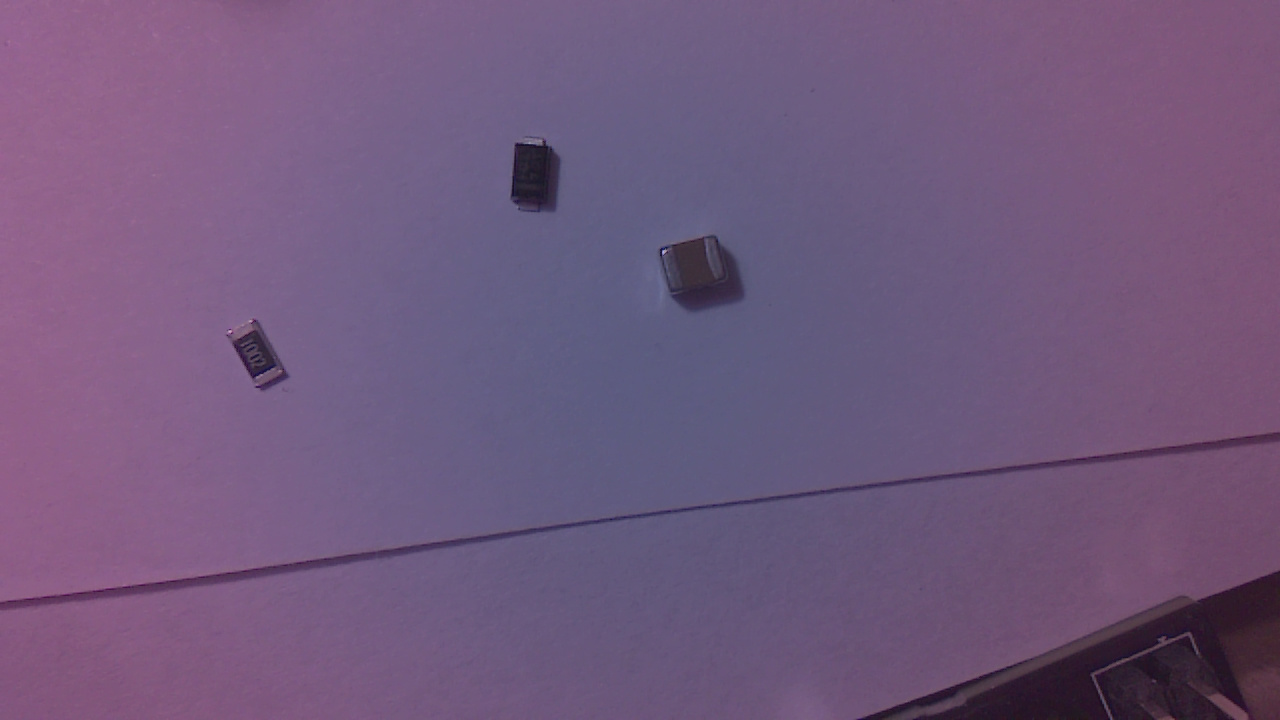Condensator: (665, 242, 736, 304)
Diode: (515, 141, 559, 220)
Resistor: (227, 322, 299, 398)
